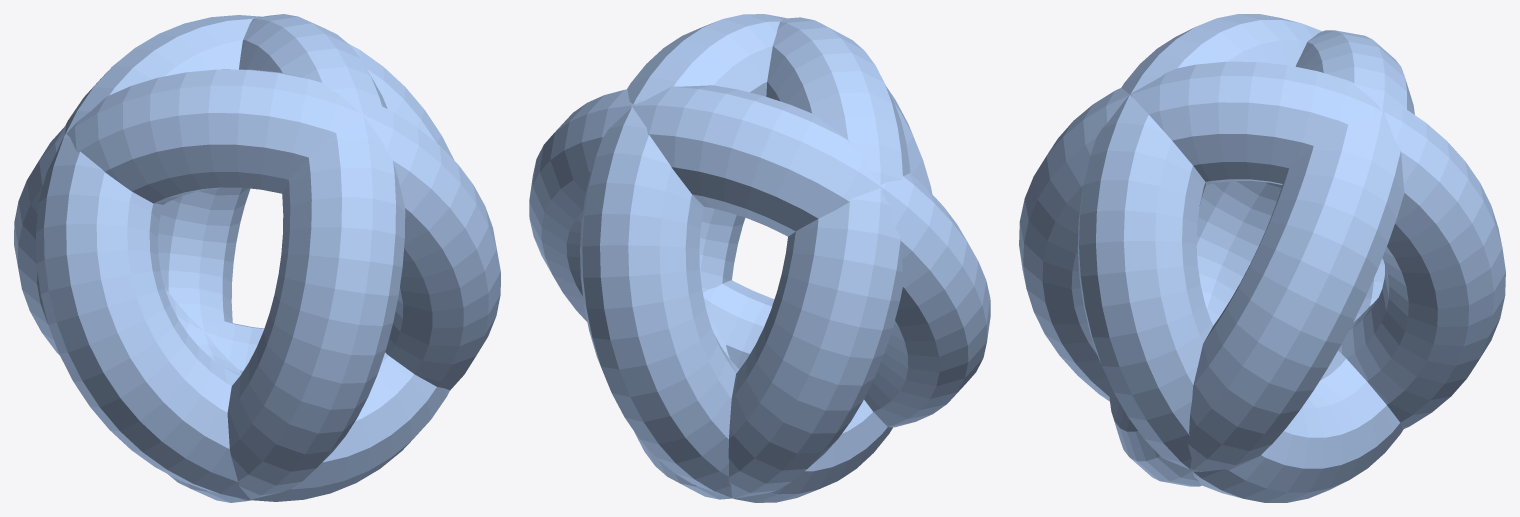
File: Player_8.fbx
3 renders of one model, left to right at view 1: azimuth 30°, elevation 25°; view 2: azimuth 150°, elevation 25°; view 3: azimuth 270°, elevation 25°, orthographic.
Parts seen in each view (by area): view 1: Torus.001; view 2: Torus.001; view 3: Torus.001.
Part boxes in pixels (x1,y1,x2,y2): Torus.001: (14, 14, 500, 502); Torus.001: (529, 14, 990, 502); Torus.001: (1019, 14, 1505, 502).
Size of the model in its own units: 265 by 255 by 264.
